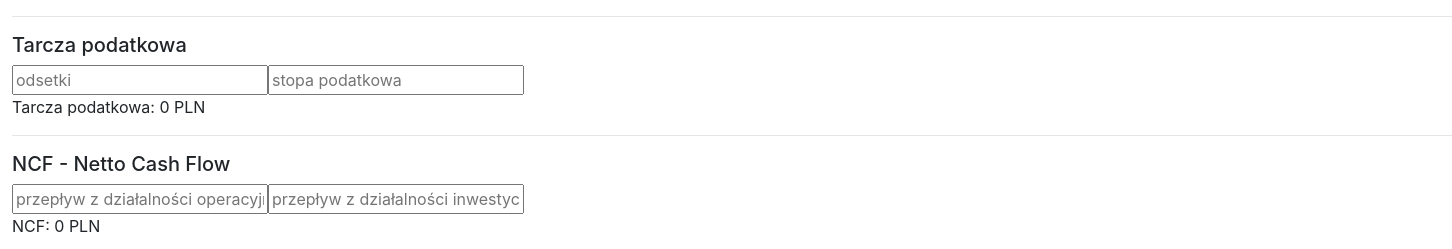
NCF component › Update interest/taxrate when interest/taxrate change and count taxShield
Expected: the field with placeholder "stopa podatkowa" is empty, [268,65,524,95]
Step 1. Type "50" into the field with placeholder "odsetki" → (140, 80), box [12,65,268,95]
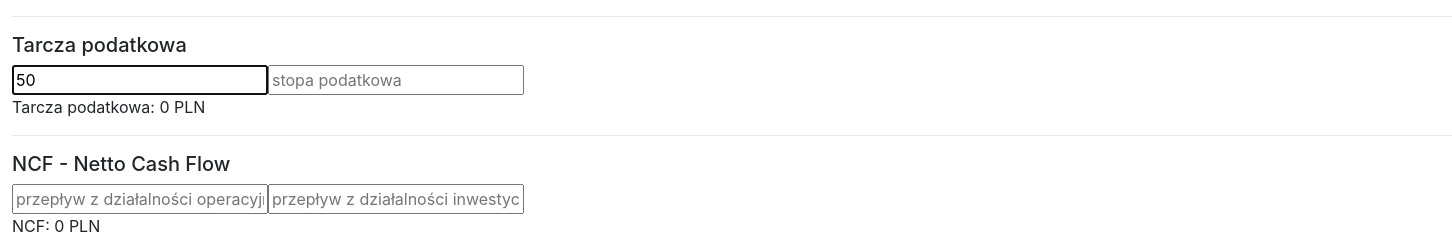
Step 2. Type "20" into the field with placeholder "stopa podatkowa" → (396, 80), box [268,65,524,95]
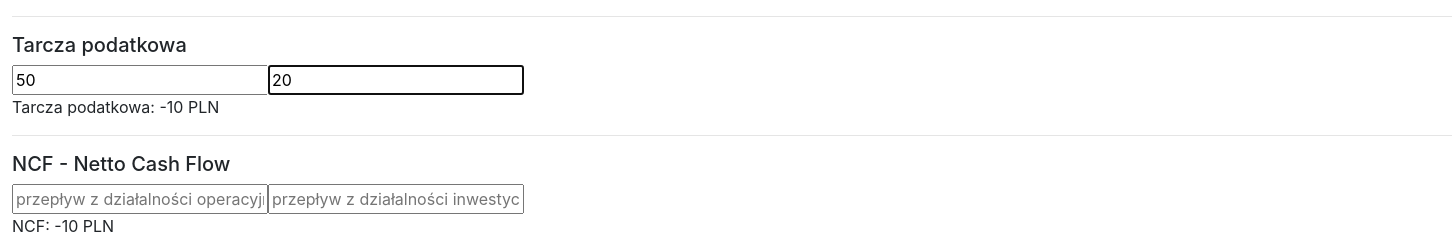
Expected: the text "Tarcza podatkowa: -10 PLN" is shown, [12,97,219,117]
